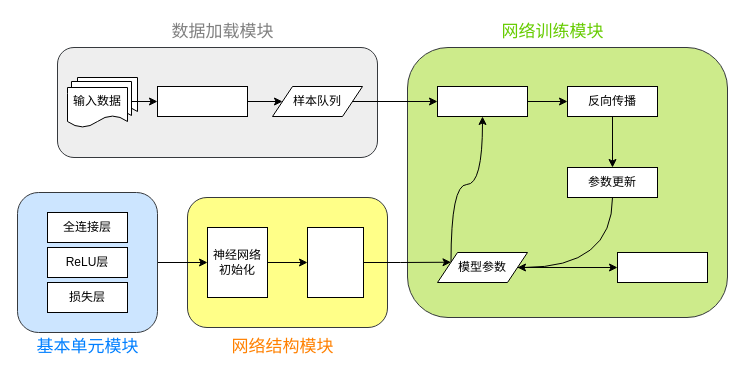
The diagram is 745 pixels wide and 379 high, and some of its shapes have lost their labels. Each missing label, with the centre of its shape:
"保存神经 网络参数" belongs at pixel 662 267.
"前向传播" belongs at pixel 482 101.
"建立网络结构" belongs at pixel 335 262.
"数据读取和 预处理" belongs at pixel 202 101.
